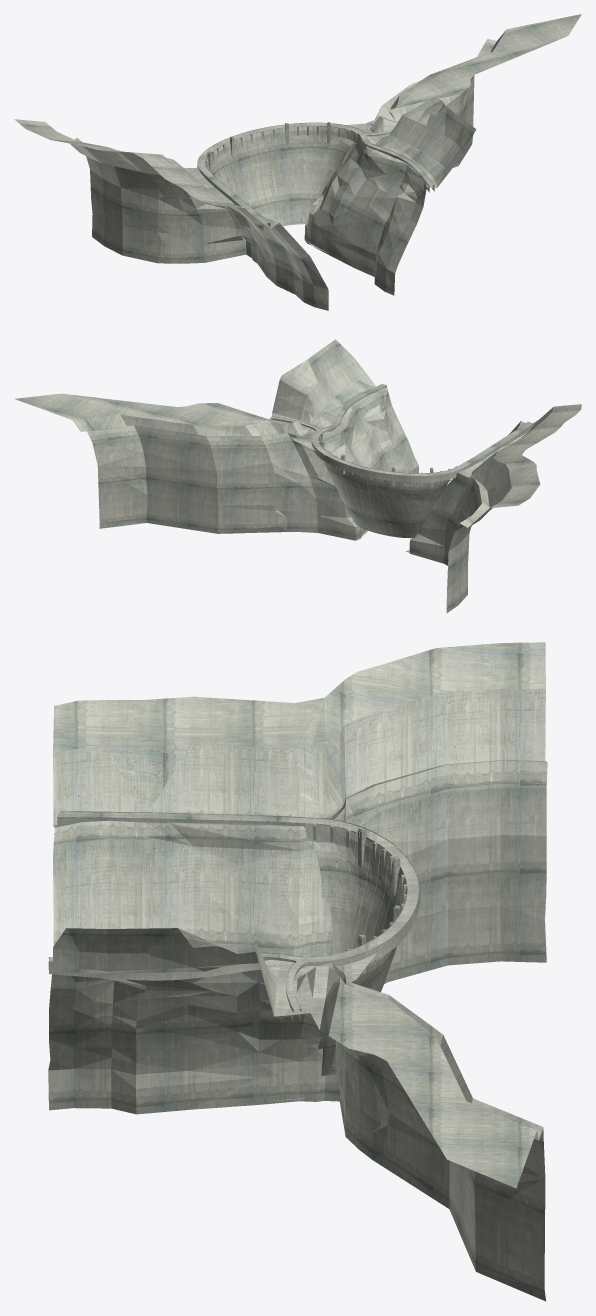
Rendered from huangchigou_2.obj.
The picture shows the model from 3 angles, top to bottom: view 1: azimuth 30°, elevation 25°; view 2: azimuth 150°, elevation 25°; view 3: azimuth 270°, elevation 25°; orthographic projection. The views are drawn at different scales.
Parts seen in each view (by area): view 1: enviro, main, way, maintop; view 2: enviro, main, way; view 3: enviro, main, way, maintop.
Part boxes in pixels (box(x1,y1,x2,y2)): enviro: box(14, 14, 581, 310); main: box(205, 125, 359, 242); way: box(197, 122, 434, 230); maintop: box(205, 122, 356, 171); enviro: box(14, 339, 581, 613); main: box(318, 432, 448, 538); way: box(271, 384, 533, 482); enviro: box(48, 642, 547, 1301); main: box(305, 823, 407, 1075); way: box(48, 811, 419, 1021); maintop: box(313, 823, 407, 973).
Bounding box in the file's own units: 3511 × 854 × 1482.
